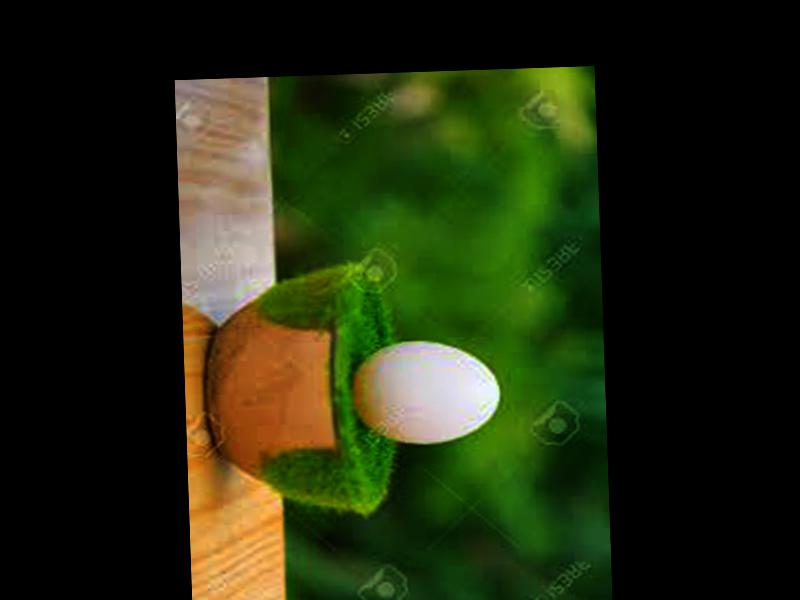Eggs: (350, 335, 498, 444)
